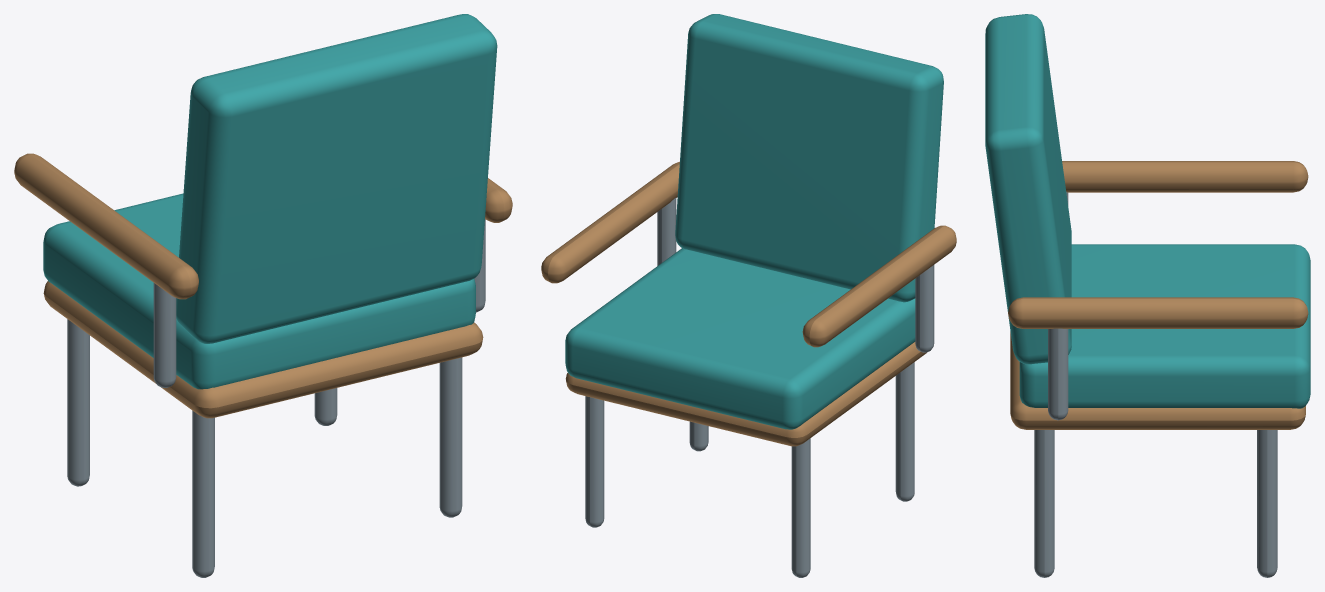
File: WaitingChair.fbx
3 renders of one model, left to right at view 1: azimuth 30°, elevation 25°; view 2: azimuth 150°, elevation 25°; view 3: azimuth 270°, elevation 25°, orthographic. The views are drawn at different scales.
Parts seen in each view (by area): view 1: Upholstered backrest, Upholstered seat, Seat frame, Armrest.001, Chair leg.001, Chair leg.003, Chair leg.002, Armrest upright.001, Armrest, Chair leg; view 2: Upholstered backrest, Upholstered seat, Seat frame, Armrest.001, Armrest, Chair leg.002, Chair leg.003, Chair leg, Armrest upright.001, Armrest upright; view 3: Upholstered seat, Upholstered backrest, Armrest, Armrest.001, Seat frame, Chair leg, Chair leg.001, Armrest upright.
Part boxes in pixels (x1,y1,x2,y2): Upholstered backrest: (176, 14, 497, 343); Upholstered seat: (43, 193, 475, 389); Seat frame: (43, 281, 483, 418); Armrest.001: (14, 153, 198, 299); Chair leg.001: (439, 357, 462, 517); Chair leg.003: (192, 410, 214, 577); Chair leg.002: (67, 319, 89, 486); Armrest upright.001: (153, 283, 176, 387); Armrest: (485, 178, 512, 222); Chair leg: (314, 388, 337, 425); Upholstered backrest: (675, 14, 943, 302); Upholstered seat: (565, 248, 915, 429); Seat frame: (565, 342, 926, 446); Armrest.001: (802, 225, 956, 347); Armrest: (541, 161, 679, 283); Chair leg.002: (791, 438, 810, 577); Chair leg.003: (895, 362, 914, 501); Chair leg: (585, 396, 604, 527); Armrest upright.001: (915, 265, 934, 352); Armrest upright: (657, 198, 676, 265); Upholstered seat: (1019, 244, 1310, 408); Upholstered backrest: (985, 14, 1071, 364); Armrest: (1008, 297, 1308, 328); Armrest.001: (1062, 161, 1308, 192); Seat frame: (1010, 331, 1305, 429); Chair leg: (1257, 430, 1277, 577); Chair leg.001: (1034, 430, 1054, 577); Armrest upright: (1048, 328, 1068, 420).
Size of the model in its own units: 77.5 by 110 by 71.5.
